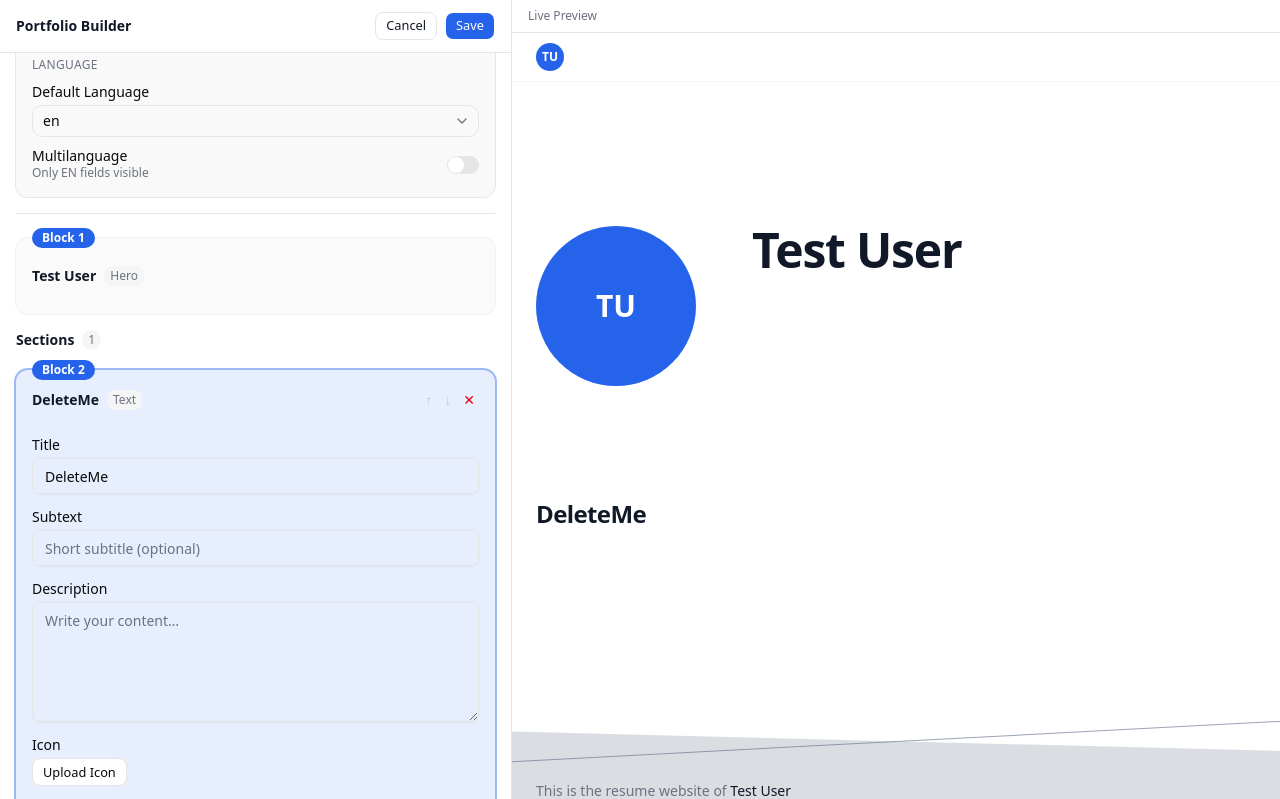
PortfolioBuilder — sections › removing a section deletes it from the editor
This screenshot has width=1280, height=799.
(page scrolled)
Expected: the text "DeleteMe" is shown, [32,390,99,410]
Click the button titled "Remove section": (469, 400) [459,386,479,414]
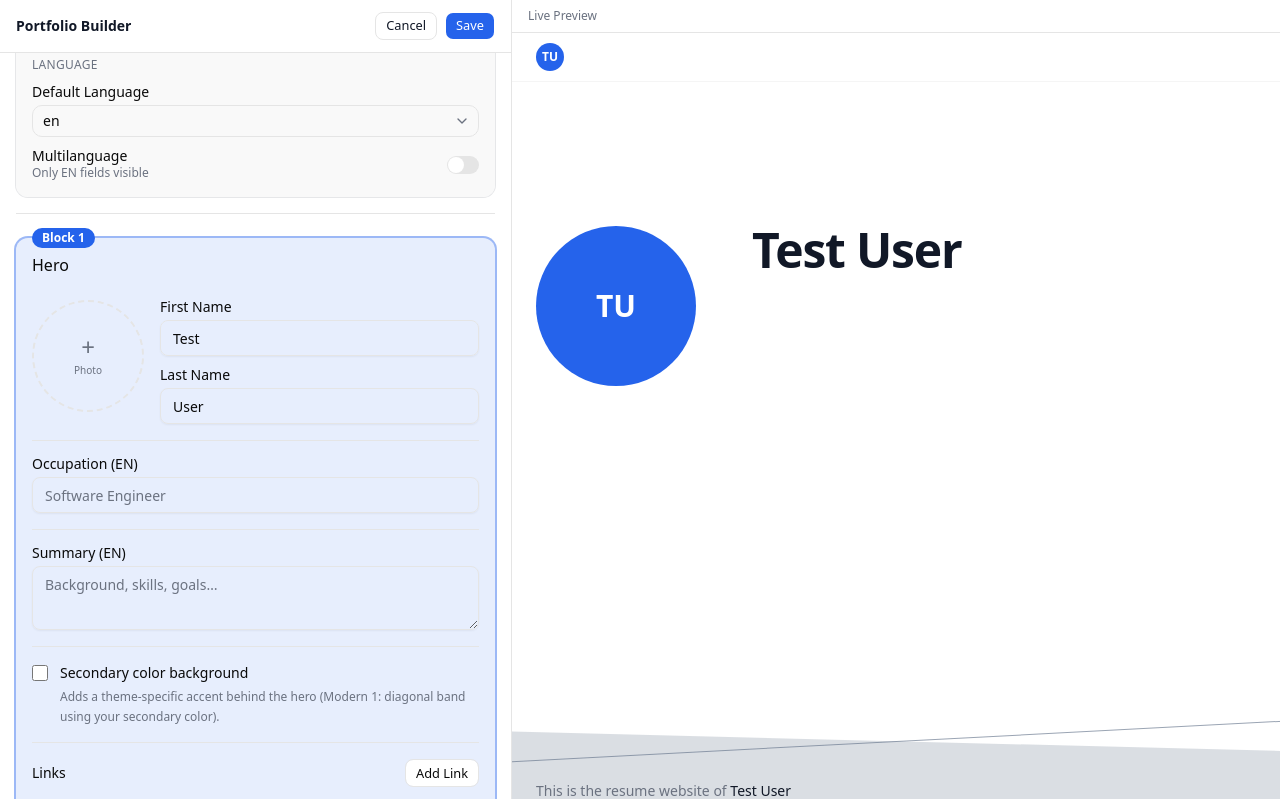
Expected: the text "DeleteMe" is not shown
